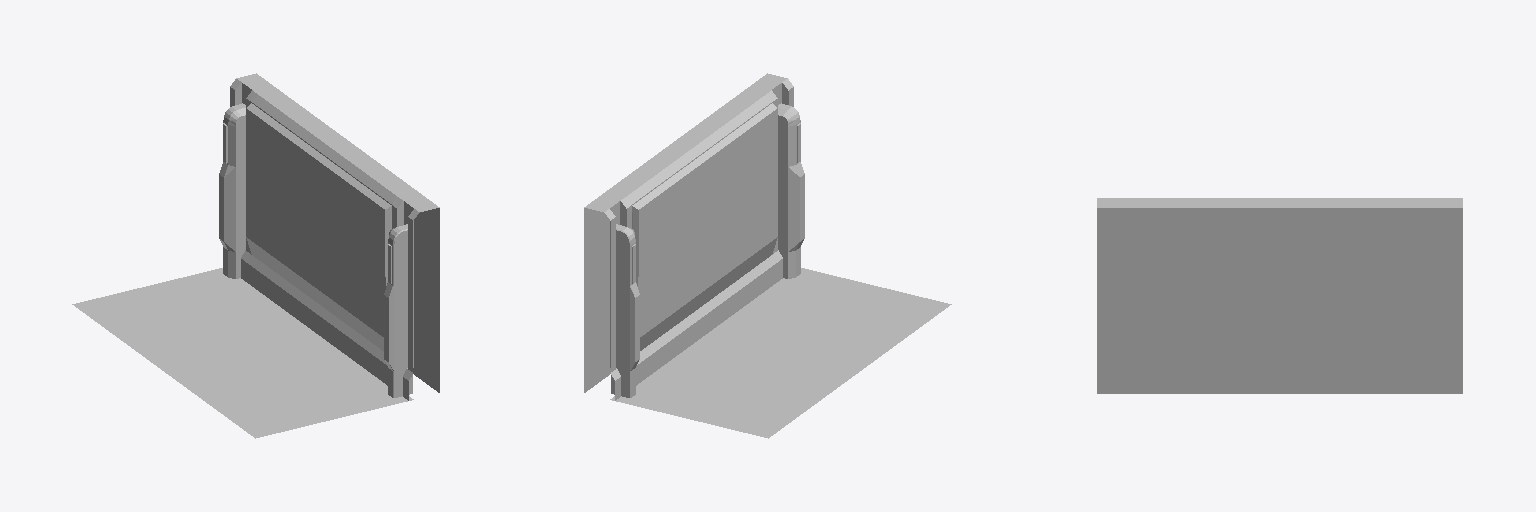
The model's file is wallComplex.obj.
The picture shows the model from 3 angles: view 1: azimuth 30°, elevation 25°; view 2: azimuth 150°, elevation 25°; view 3: azimuth 270°, elevation 25°; orthographic projection.
Parts seen in each view (by area): view 1: floor_wall014; view 2: floor_wall014; view 3: floor_wall014.
Boxes of the visible parts, x1=… form: floor_wall014: x1=72, y1=73, x2=439, y2=438; floor_wall014: x1=584, y1=73, x2=951, y2=438; floor_wall014: x1=1097, y1=198, x2=1462, y2=393.
Size of the model in its own units: 2.9 by 2.8 by 5.